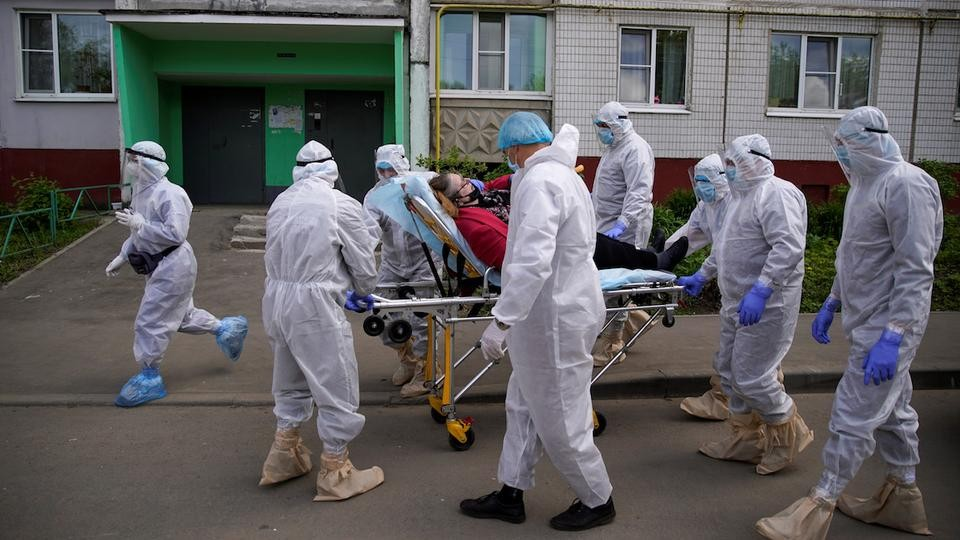Coverall: (802, 100, 943, 512), (486, 110, 617, 509), (259, 135, 380, 463), (708, 126, 822, 428), (103, 136, 234, 371), (587, 98, 658, 369)
Gloves: (859, 325, 904, 387), (476, 316, 522, 359), (809, 299, 847, 350), (736, 279, 776, 327), (112, 203, 147, 235), (341, 288, 381, 316), (599, 216, 636, 246), (675, 266, 710, 297), (105, 250, 129, 279)
with_mask: (832, 139, 856, 178), (594, 119, 618, 147), (121, 157, 143, 187), (694, 176, 715, 204), (722, 159, 738, 185)
